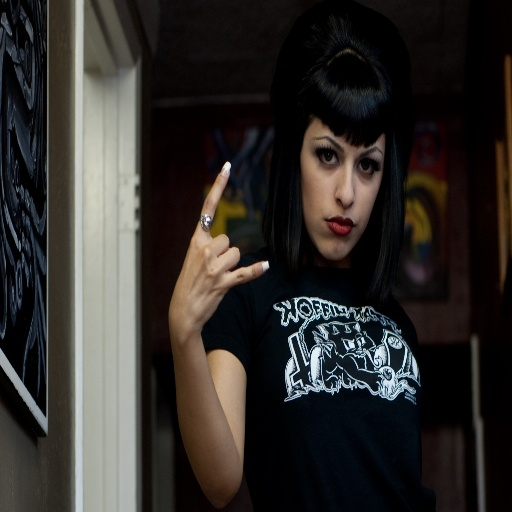hand: (173, 190, 254, 329)
